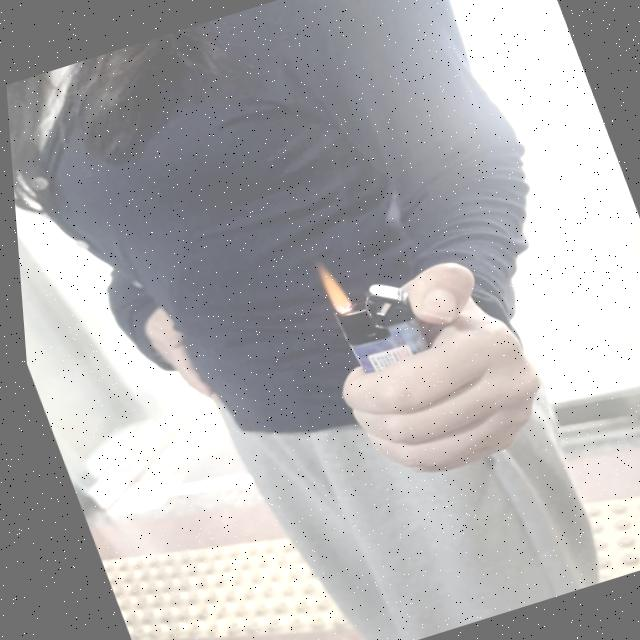Fire: (310, 260, 348, 311)
